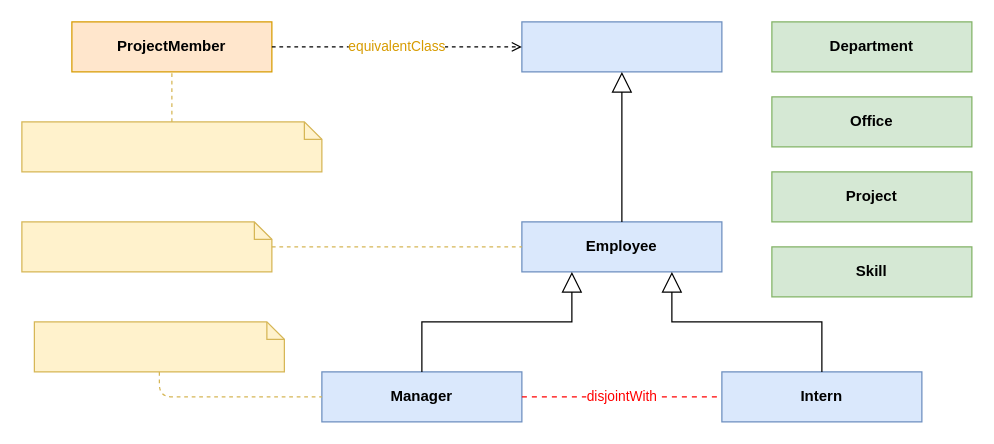
This 994x444 diagram has some shape labels left out. Each missing label, with the box of its shape:
manages some Employee: (33, 321, 284, 372)
Person: (521, 21, 722, 72)
Person ⊓ (assignedTo some Project): (21, 121, 322, 172)
worksIn some Department: (21, 221, 272, 272)
